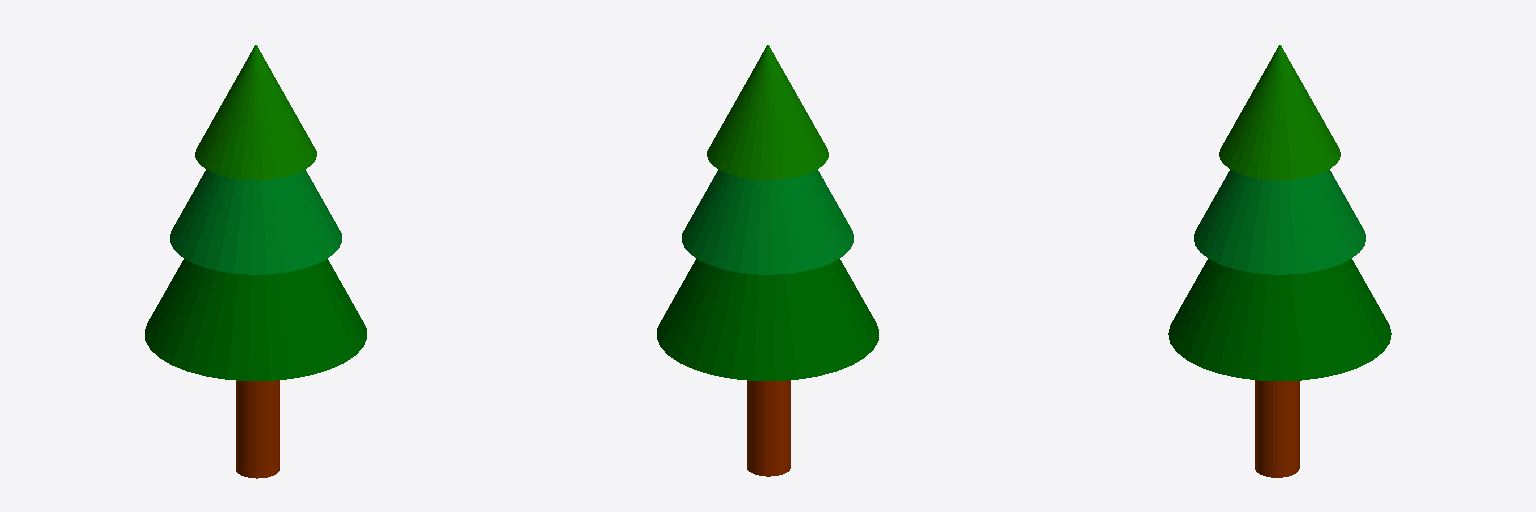
The model's file is tree-toon.obj.
The picture shows the model from 3 angles: view 1: azimuth 30°, elevation 25°; view 2: azimuth 150°, elevation 25°; view 3: azimuth 270°, elevation 25°; orthographic projection.
Visible parts, largest first — view 1: Cone_003, Cone_002, Cone_001, Cylinder; view 2: Cone_003, Cone_002, Cone_001, Cylinder; view 3: Cone_003, Cone_002, Cone_001, Cylinder.
Part boxes in pixels (x1,y1,x2,y2): Cone_003: (145,259,366,380); Cone_002: (170,169,341,274); Cone_001: (195,45,316,179); Cylinder: (236,380,279,478); Cone_003: (657,259,878,380); Cone_002: (682,169,853,274); Cone_001: (707,45,828,179); Cylinder: (747,380,790,476); Cone_003: (1168,259,1391,380); Cone_002: (1194,169,1365,274); Cone_001: (1219,45,1340,179); Cylinder: (1255,380,1299,477).
Bounding box in the file's own units: 3.66 × 7.68 × 3.66.